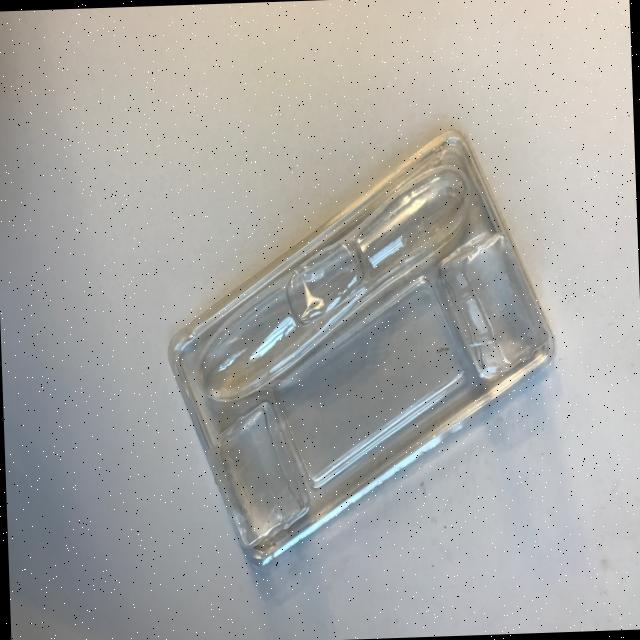plastic: (160, 125, 563, 569)
